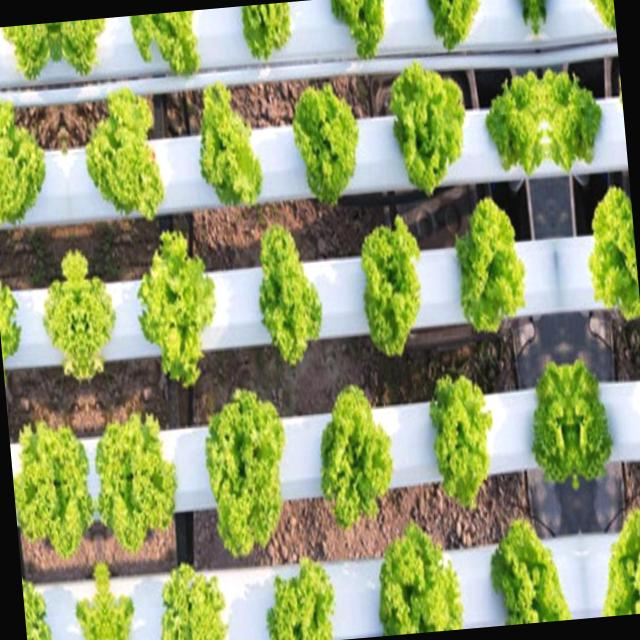healthy: (128, 219, 227, 394), (200, 382, 298, 558), (86, 398, 186, 555), (308, 376, 404, 539), (383, 51, 477, 208), (7, 406, 101, 562), (351, 199, 435, 362), (247, 215, 330, 374), (78, 84, 164, 232), (422, 364, 504, 518), (450, 192, 530, 342), (193, 73, 268, 221), (288, 78, 368, 215), (368, 520, 460, 636), (484, 512, 571, 626), (581, 181, 640, 330), (255, 544, 339, 640), (72, 238, 124, 393), (33, 242, 85, 396), (538, 59, 604, 180), (482, 64, 548, 184), (0, 93, 52, 240), (114, 10, 208, 90), (522, 358, 576, 496), (564, 354, 618, 492), (151, 552, 233, 640), (593, 503, 640, 616), (0, 236, 30, 405), (412, 0, 498, 56), (325, 0, 394, 64), (236, 1, 296, 64), (99, 555, 143, 640), (54, 18, 106, 88), (65, 558, 109, 640), (7, 22, 58, 92), (610, 38, 630, 188), (21, 567, 58, 640), (570, 0, 617, 41)
